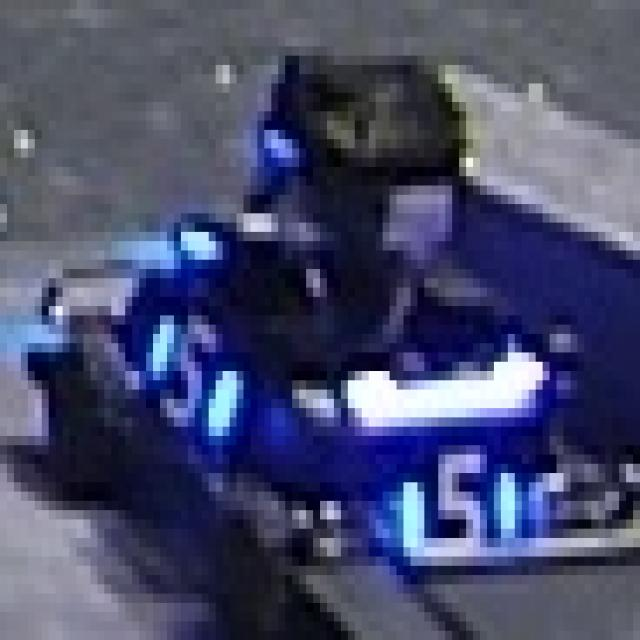B5: (362, 426, 522, 566), (104, 287, 250, 436)
